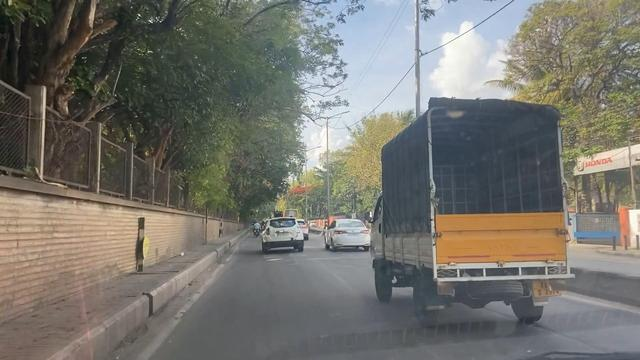HMV: (369, 95, 566, 326)
LMV: (261, 215, 305, 252), (325, 218, 368, 249)
